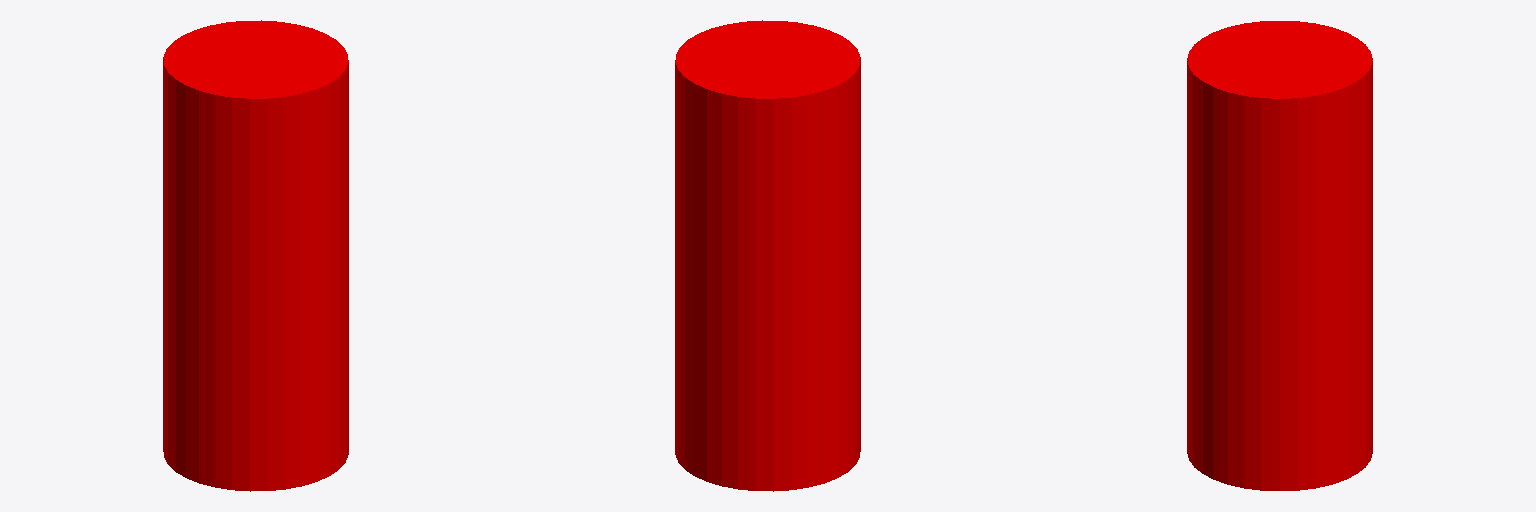
The robot description file, URDF, robot "obstacle_0":
<?xml version="1.0" ?>
<robot name="obstacle_0">
  <link name="obstacle_0_base">
    <inertial>
      <mass value="1"/>
      <inertia ixx="0.001858" ixy="0" ixz="0" iyy="0.001858" iyz="0" izz="0.00045"/>
    </inertial>
    <visual>
      <geometry><cylinder radius="0.03" length="0.14"/></geometry>
      <material name="red"><color rgba="1 0 0 1"/></material>
    </visual>
    <collision>
      <geometry><cylinder radius="0.03" length="0.14"/></geometry>
    </collision>
  </link>
</robot>

--- What the picture shows (computed from the rendered views, not written in the file) ---
The picture shows the robot from 3 angles, left to right: view 1: azimuth 30°, elevation 25°; view 2: azimuth 150°, elevation 25°; view 3: azimuth 270°, elevation 25°; orthographic projection.
Robot: obstacle_0 — 1 links, 0 joints (none); root link obstacle_0_base; default pose: all joints at 0.
Links seen in each view (by area): view 1: obstacle_0_base; view 2: obstacle_0_base; view 3: obstacle_0_base.
Boxes of the visible links, box(x1,y1,x2,y2) form: obstacle_0_base: box(163, 20, 348, 491); obstacle_0_base: box(675, 20, 860, 491); obstacle_0_base: box(1187, 21, 1372, 490).
Size in the robot's own frame: 0.06 by 0.06 by 0.14 metres.
Geometry: primitives only (box / cylinder / sphere), no mesh files.